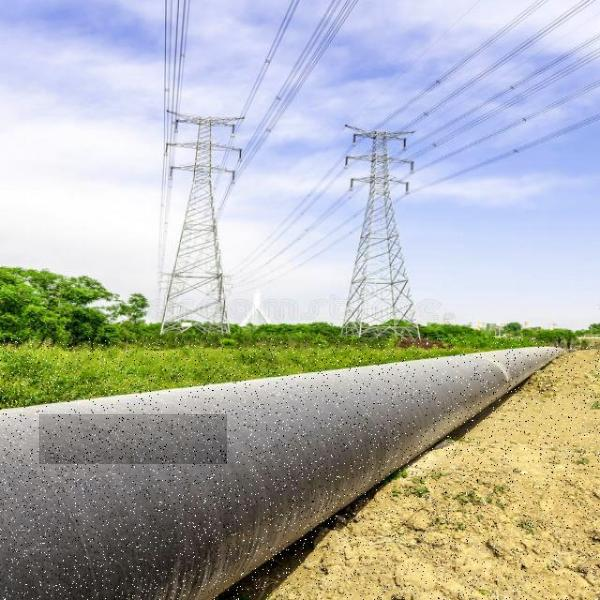no leak: (39, 414, 227, 464)
